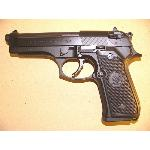Pistol: (6, 27, 142, 122)
